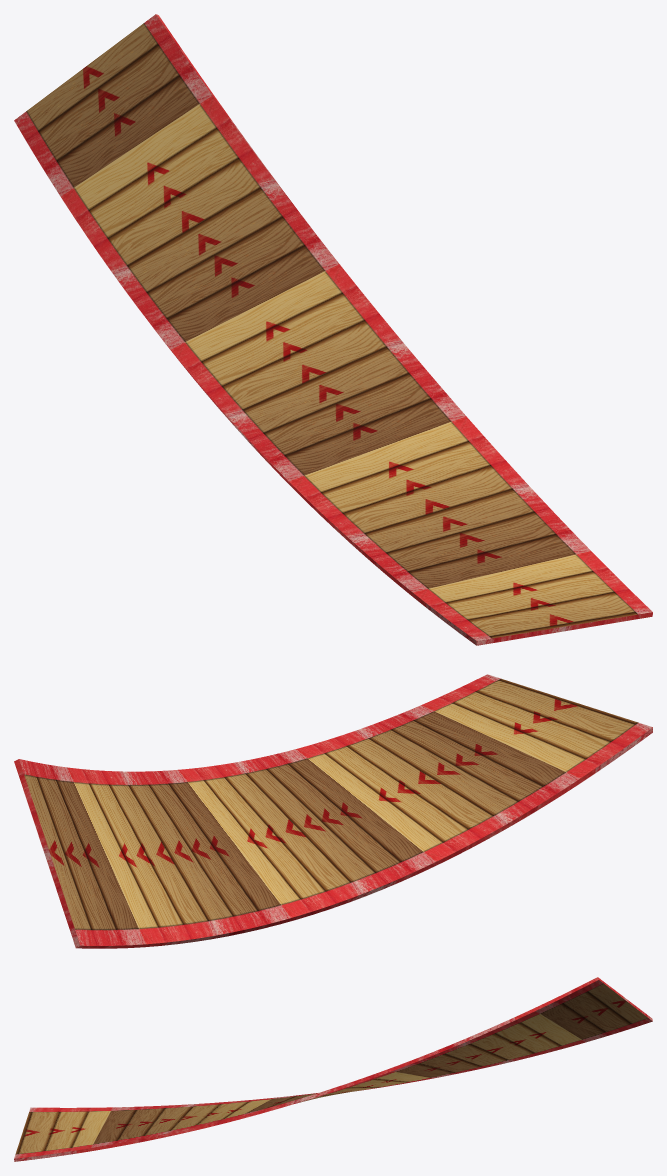
Rendered from 14_Twist_Ramp.FBX.
3 views of the same model, one above another, from view 1: azimuth 30°, elevation 25°; view 2: azimuth 150°, elevation 25°; view 3: azimuth 270°, elevation 25° (orthographic). The views are drawn at different scales.
Visible parts, largest first — view 1: Box007; view 2: Box007; view 3: Box007.
Boxes of the visible parts, box(x1,y1,x2,y2) form: Box007: box(14, 14, 652, 645); Box007: box(14, 674, 652, 948); Box007: box(14, 977, 652, 1161).
Size of the model in its own units: 5945 by 9545 by 31818.
